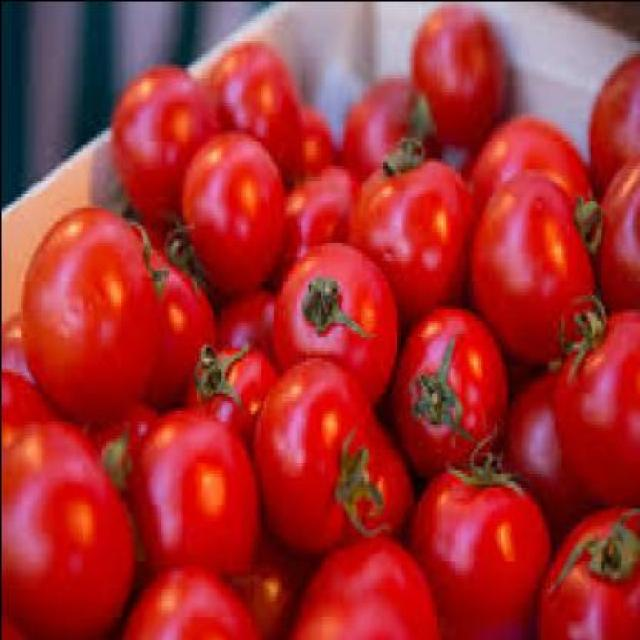BIODEGRADABLE: (21, 199, 164, 419), (2, 412, 138, 637), (254, 353, 386, 559), (408, 458, 549, 637), (468, 174, 600, 360), (132, 395, 263, 580), (274, 238, 400, 402), (354, 150, 477, 308), (182, 122, 290, 295), (554, 286, 638, 508), (396, 304, 510, 462), (114, 56, 218, 221), (507, 363, 596, 539), (294, 529, 440, 636), (137, 217, 217, 406), (458, 109, 594, 213), (412, 4, 510, 147), (209, 38, 308, 178), (536, 503, 638, 637), (275, 157, 368, 277), (123, 559, 263, 636), (583, 146, 639, 311), (344, 70, 430, 175), (185, 342, 277, 438), (234, 522, 312, 629), (591, 42, 638, 183), (360, 420, 414, 528), (217, 277, 281, 360), (97, 392, 158, 479), (2, 364, 67, 427), (291, 100, 335, 172), (2, 307, 35, 378)
